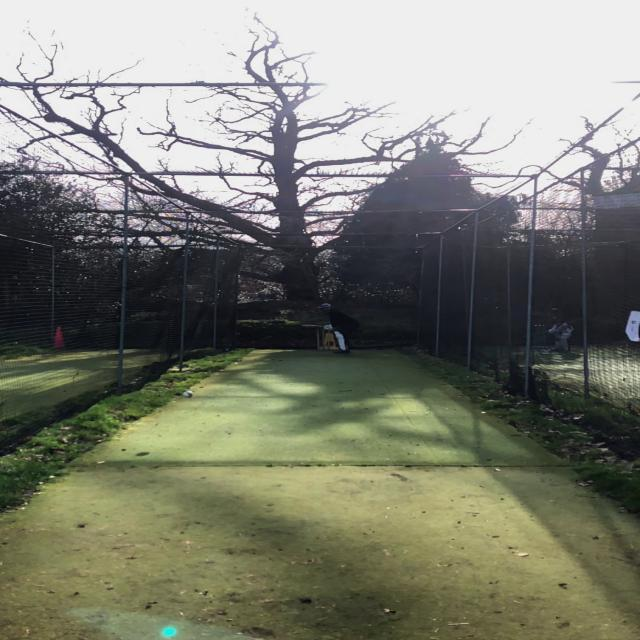ball: (181, 390, 195, 399)
